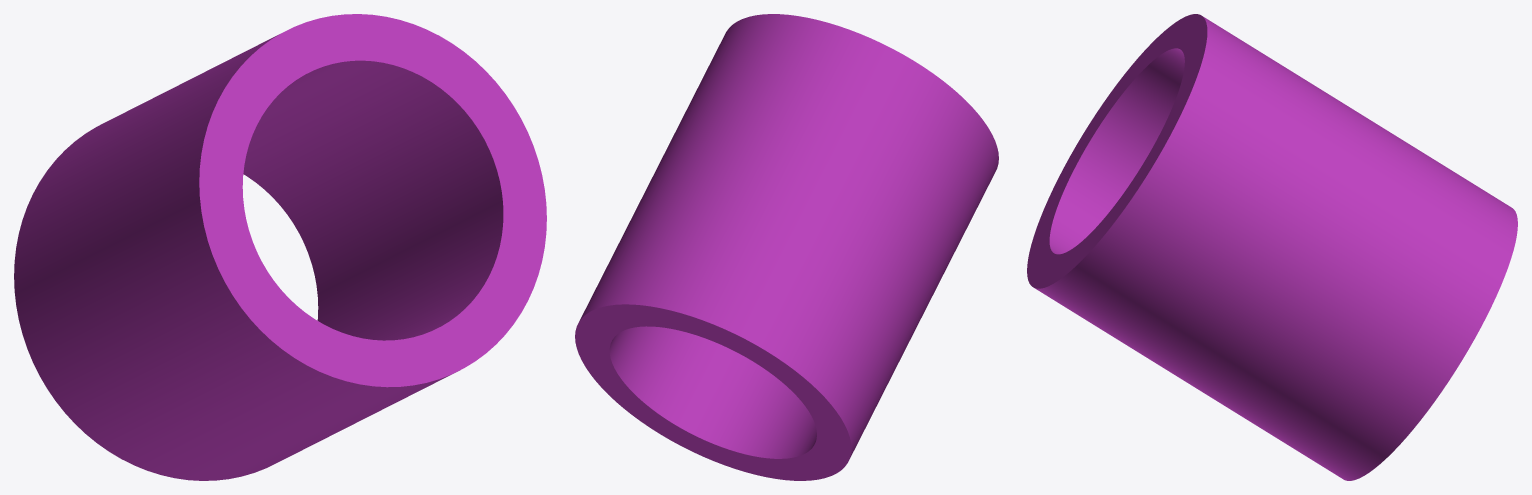
Rendered from magenta-cylinder.glb.
3 renders of one model, left to right at view 1: azimuth 30°, elevation 25°; view 2: azimuth 150°, elevation 25°; view 3: azimuth 270°, elevation 25°, orthographic. The views are drawn at different scales.
Visible parts, largest first — view 1: mesh_id33; view 2: mesh_id33; view 3: mesh_id33.
Boxes of the visible parts, x1=… form: mesh_id33: x1=14, y1=14, x2=546, y2=480; mesh_id33: x1=575, y1=14, x2=998, y2=480; mesh_id33: x1=1027, y1=14, x2=1517, y2=480.
Bounding box in the file's own units: 0.1279 × 0.1904 × 0.1963.
1 material, 1 textured.
